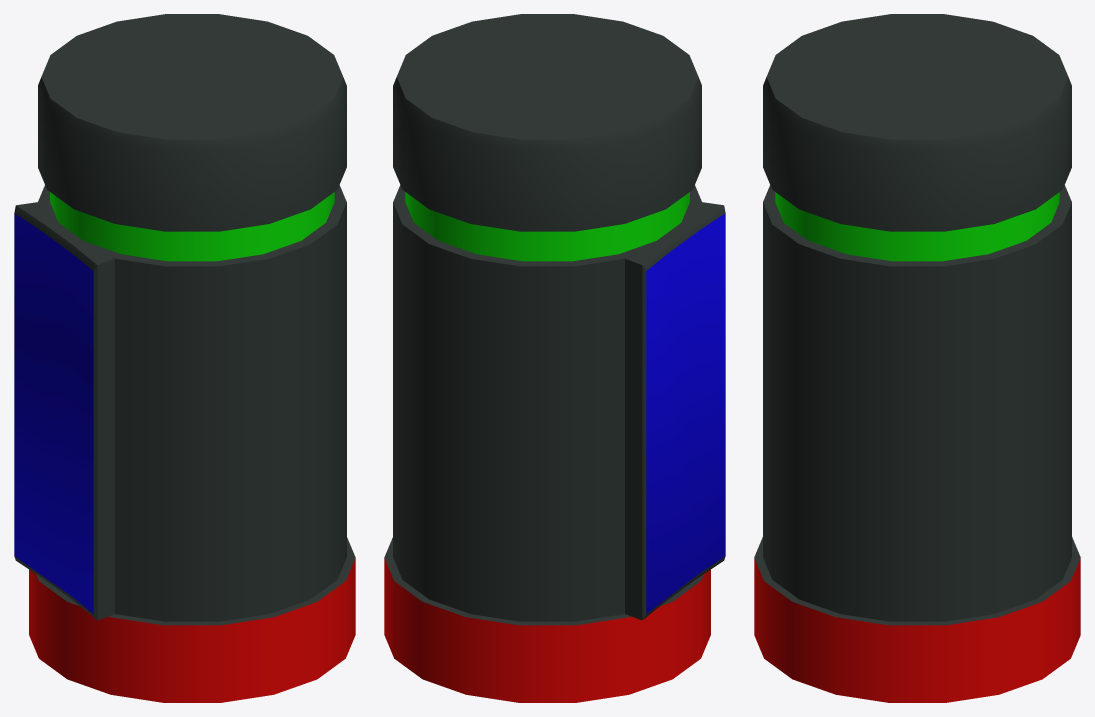
The model's file is SM_Canister_Medium.fbx.
3 renders of one model, left to right at view 1: azimuth 30°, elevation 25°; view 2: azimuth 150°, elevation 25°; view 3: azimuth 270°, elevation 25°, orthographic.
Parts seen in each view (by area): view 1: SM_Canister_Medium; view 2: SM_Canister_Medium; view 3: SM_Canister_Medium.
Part boxes in pixels (x1,y1,x2,y2): SM_Canister_Medium: (14, 14, 355, 702); SM_Canister_Medium: (384, 14, 725, 702); SM_Canister_Medium: (754, 14, 1080, 702).
Size of the model in its own units: 55.33 by 54.48 by 104.
